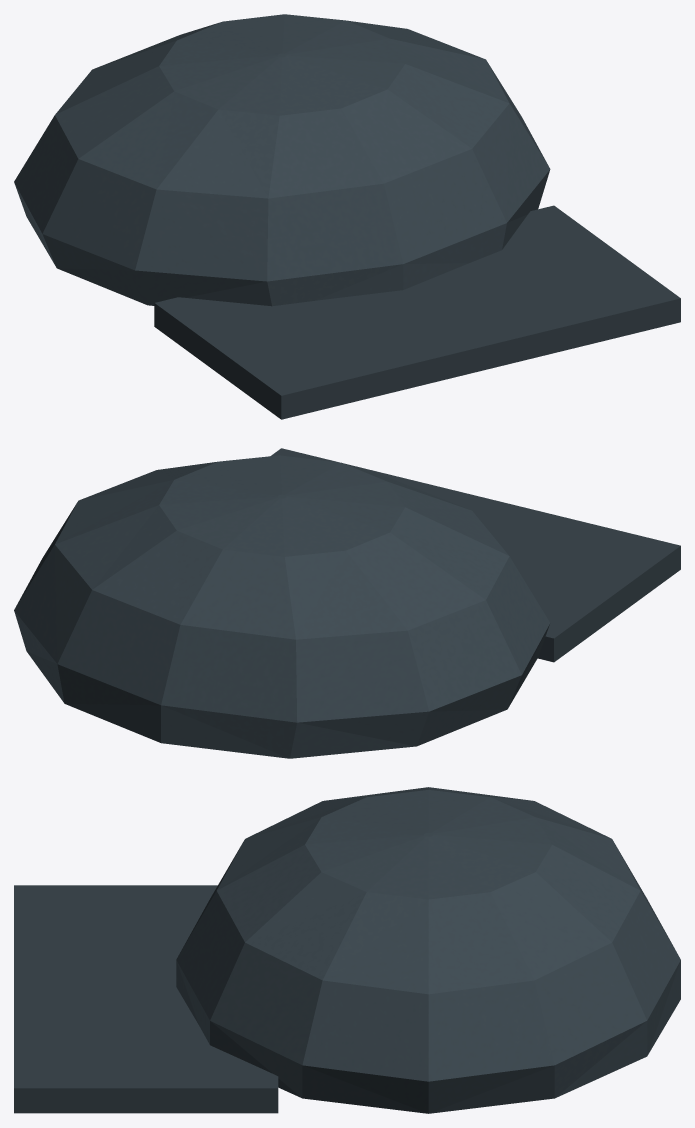
The model's file is qmset.glb.
The picture shows the model from 3 angles, top to bottom: view 1: azimuth 30°, elevation 25°; view 2: azimuth 150°, elevation 25°; view 3: azimuth 270°, elevation 25°; orthographic projection. The views are drawn at different scales.
Visible parts, largest first — view 1: Supply Headset.002; view 2: Supply Headset.002; view 3: Supply Headset.002.
Part boxes in pixels (bbox=[...]): Supply Headset.002: bbox=[14, 14, 680, 419]; Supply Headset.002: bbox=[14, 448, 680, 758]; Supply Headset.002: bbox=[14, 787, 680, 1113].
Size of the model in its own units: 0.6451 by 0.2183 by 0.7459.
Materials: 2 (1 with a texture image).
